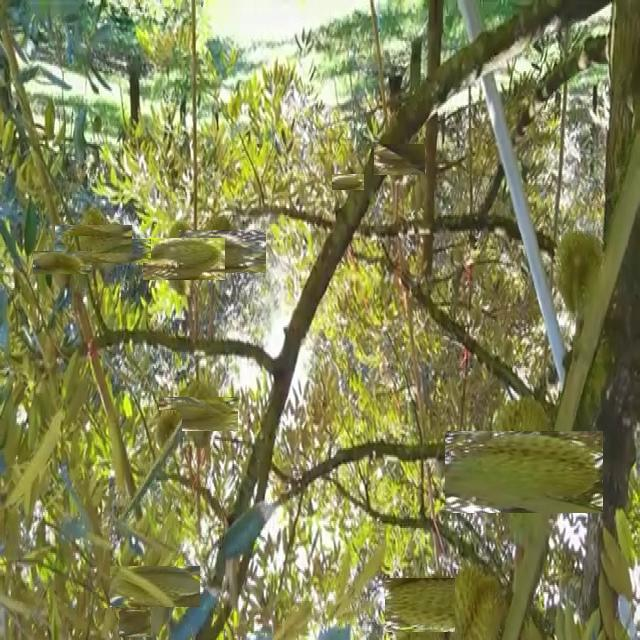durian: (464, 411, 584, 532), (553, 225, 608, 326), (446, 562, 516, 637), (122, 554, 188, 620), (189, 219, 255, 284), (388, 574, 451, 636), (153, 227, 215, 290), (171, 386, 227, 442), (67, 213, 120, 266), (86, 226, 137, 277), (42, 241, 83, 283), (379, 139, 420, 180), (152, 410, 182, 466), (68, 235, 92, 298), (404, 155, 426, 212), (121, 608, 150, 638), (336, 169, 360, 194)
